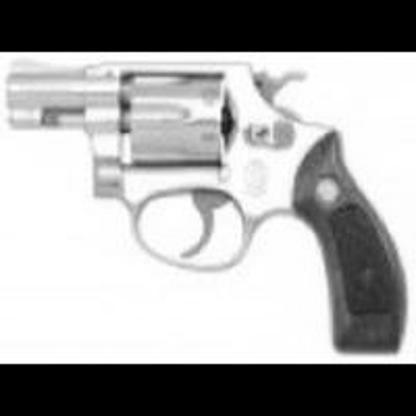weapon: (5, 58, 408, 358)
